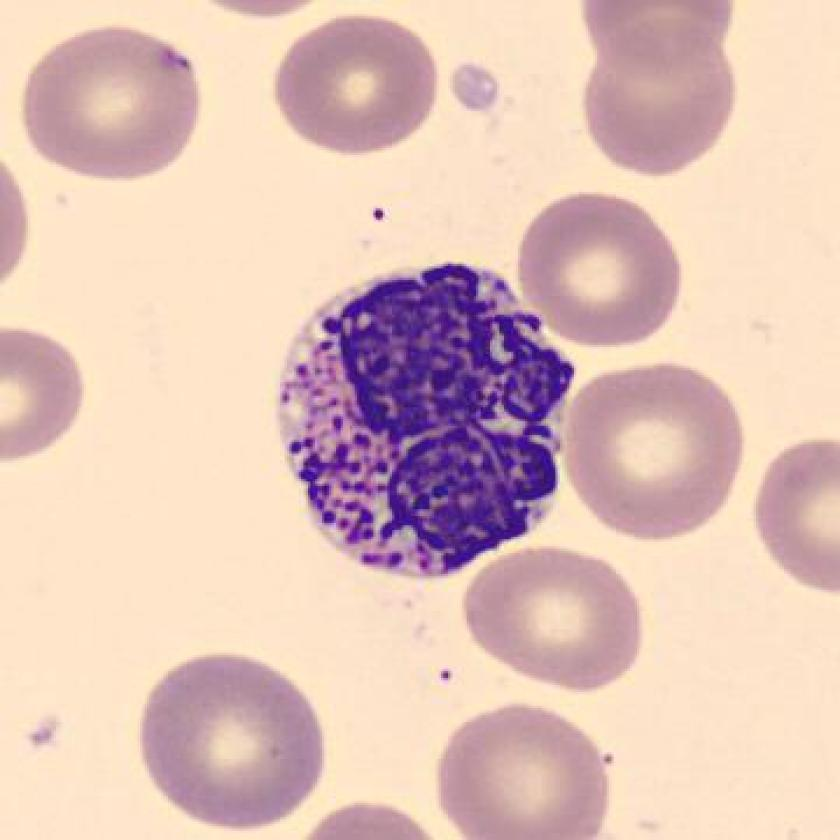basophil: (260, 249, 580, 584)
